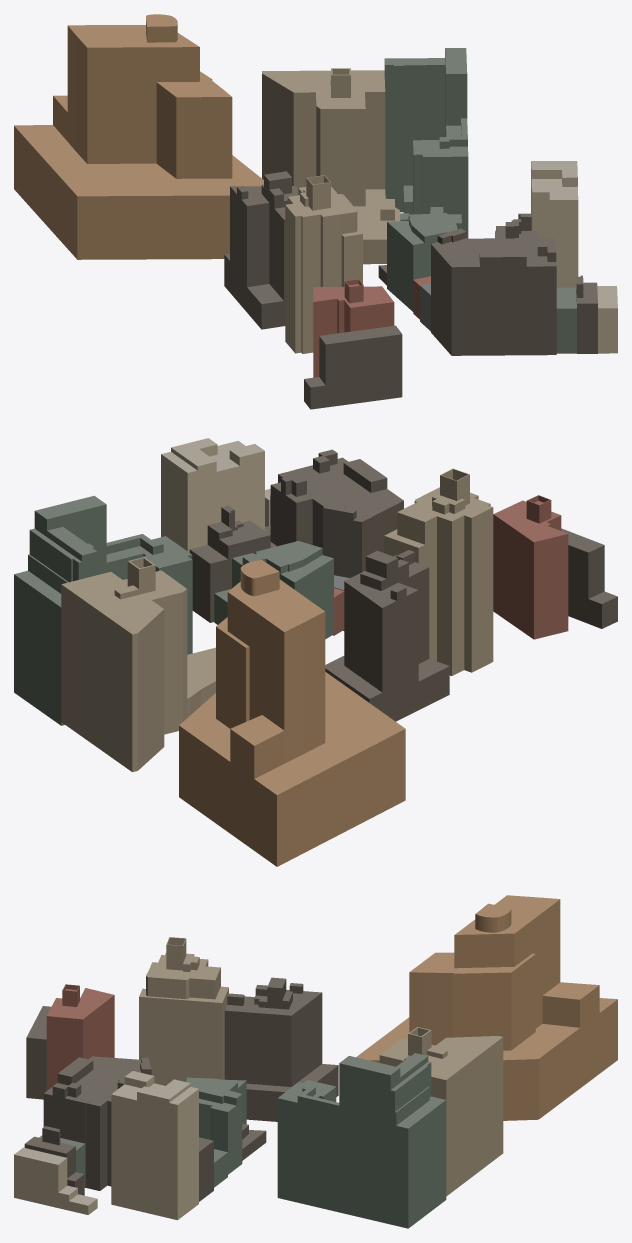
The model's file is tile-3_-2.glb.
The picture shows the model from 3 angles, top to bottom: view 1: azimuth 30°, elevation 25°; view 2: azimuth 150°, elevation 25°; view 3: azimuth 270°, elevation 25°; orthographic projection. The views are drawn at different scales.
Visible parts, largest first — view 1: wall, roof; view 2: wall, roof; view 3: wall, roof.
Part boxes in pixels (bbox=[...]): wall: bbox=[14, 20, 617, 409]; roof: bbox=[14, 14, 617, 387]; wall: bbox=[14, 444, 617, 866]; roof: bbox=[14, 438, 617, 794]; wall: bbox=[14, 899, 617, 1228]; roof: bbox=[14, 895, 617, 1205].
Bounding box in the file's own units: 157 × 83.6 × 233.
